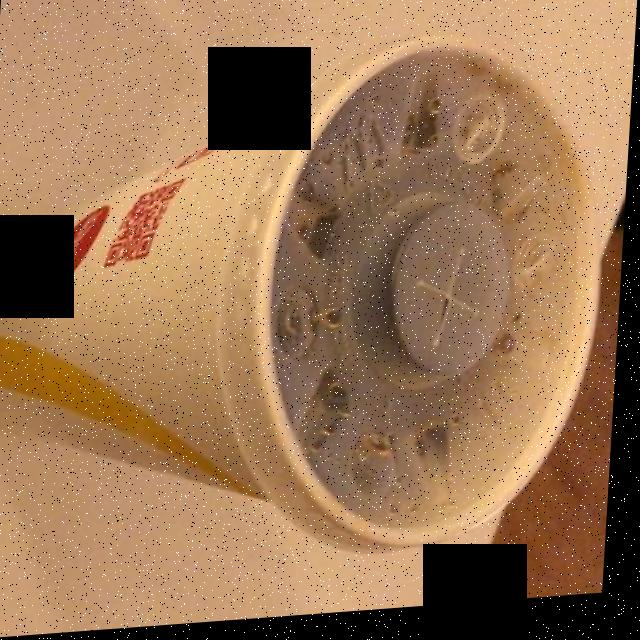coca-cola-zero: (278, 58, 585, 524)
